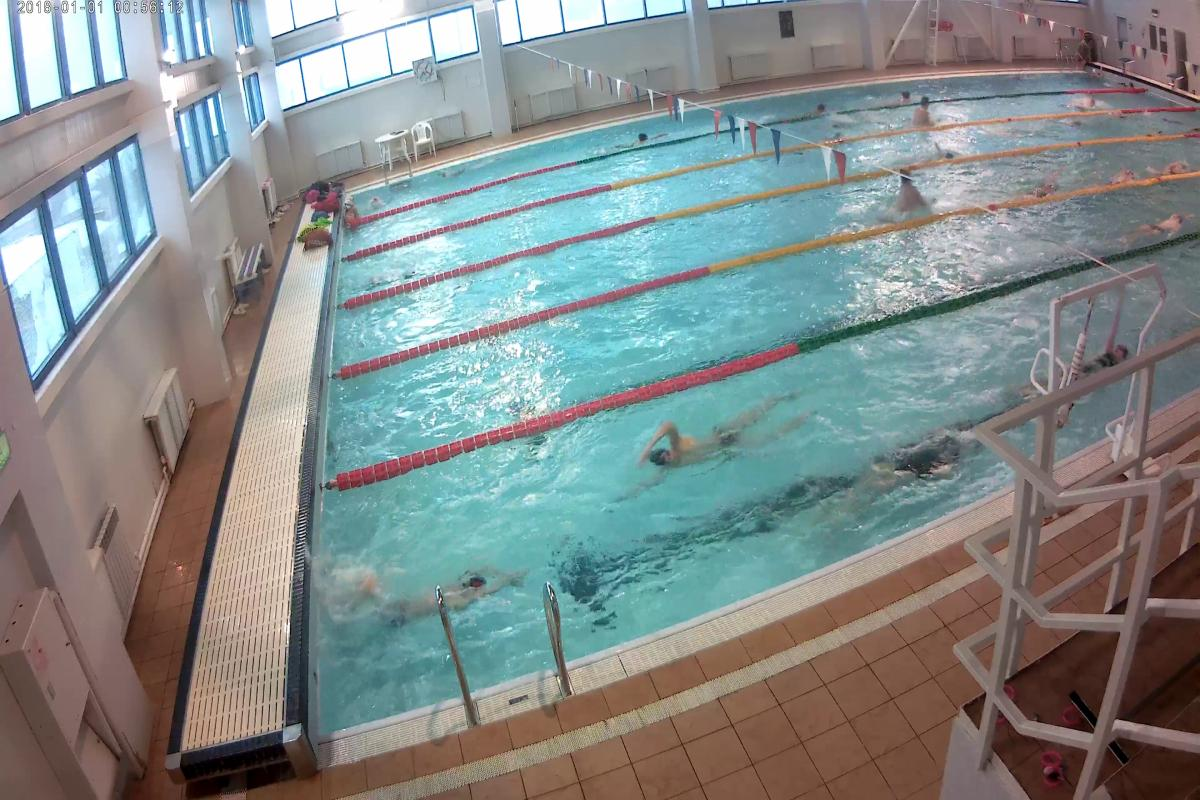swimmer: (616, 389, 830, 479), (350, 556, 524, 620), (855, 423, 963, 504), (1129, 206, 1193, 244), (896, 164, 936, 219), (1090, 329, 1132, 369), (905, 91, 943, 128), (1159, 145, 1197, 175)
